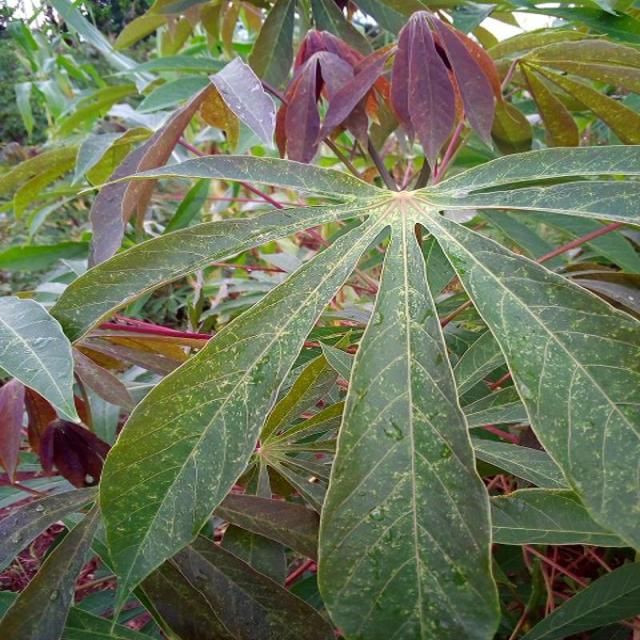cassava leaf: (96, 209, 390, 627), (315, 201, 501, 638), (417, 206, 639, 552)
